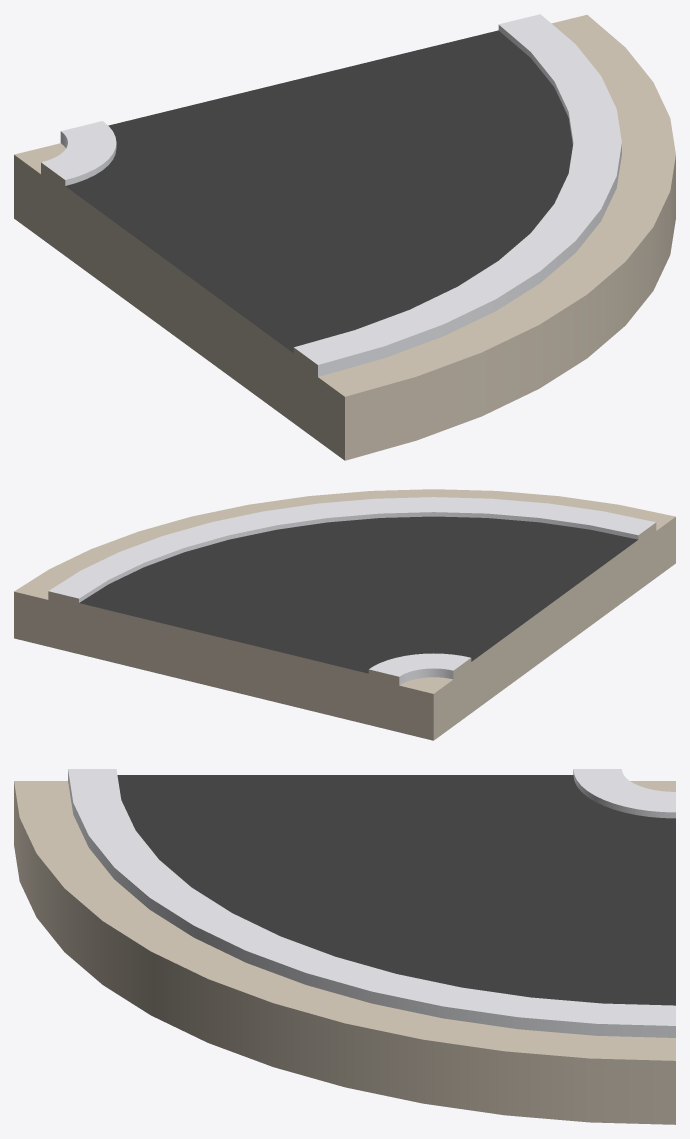
Rendered from roadCornerBridgeSmall.obj.
The picture shows the model from 3 angles, top to bottom: view 1: azimuth 30°, elevation 25°; view 2: azimuth 150°, elevation 25°; view 3: azimuth 270°, elevation 25°; orthographic projection. The views are drawn at different scales.
Visible parts, largest first — view 1: roadCornerBridgeSmall; view 2: roadCornerBridgeSmall; view 3: roadCornerBridgeSmall.
Boxes of the visible parts, x1,y1,x2,y2 form: roadCornerBridgeSmall: (14,14,675,460); roadCornerBridgeSmall: (14,489,675,740); roadCornerBridgeSmall: (14,769,675,1124).
Bounding box in the file's own units: 1 × 0.1266 × 1.
